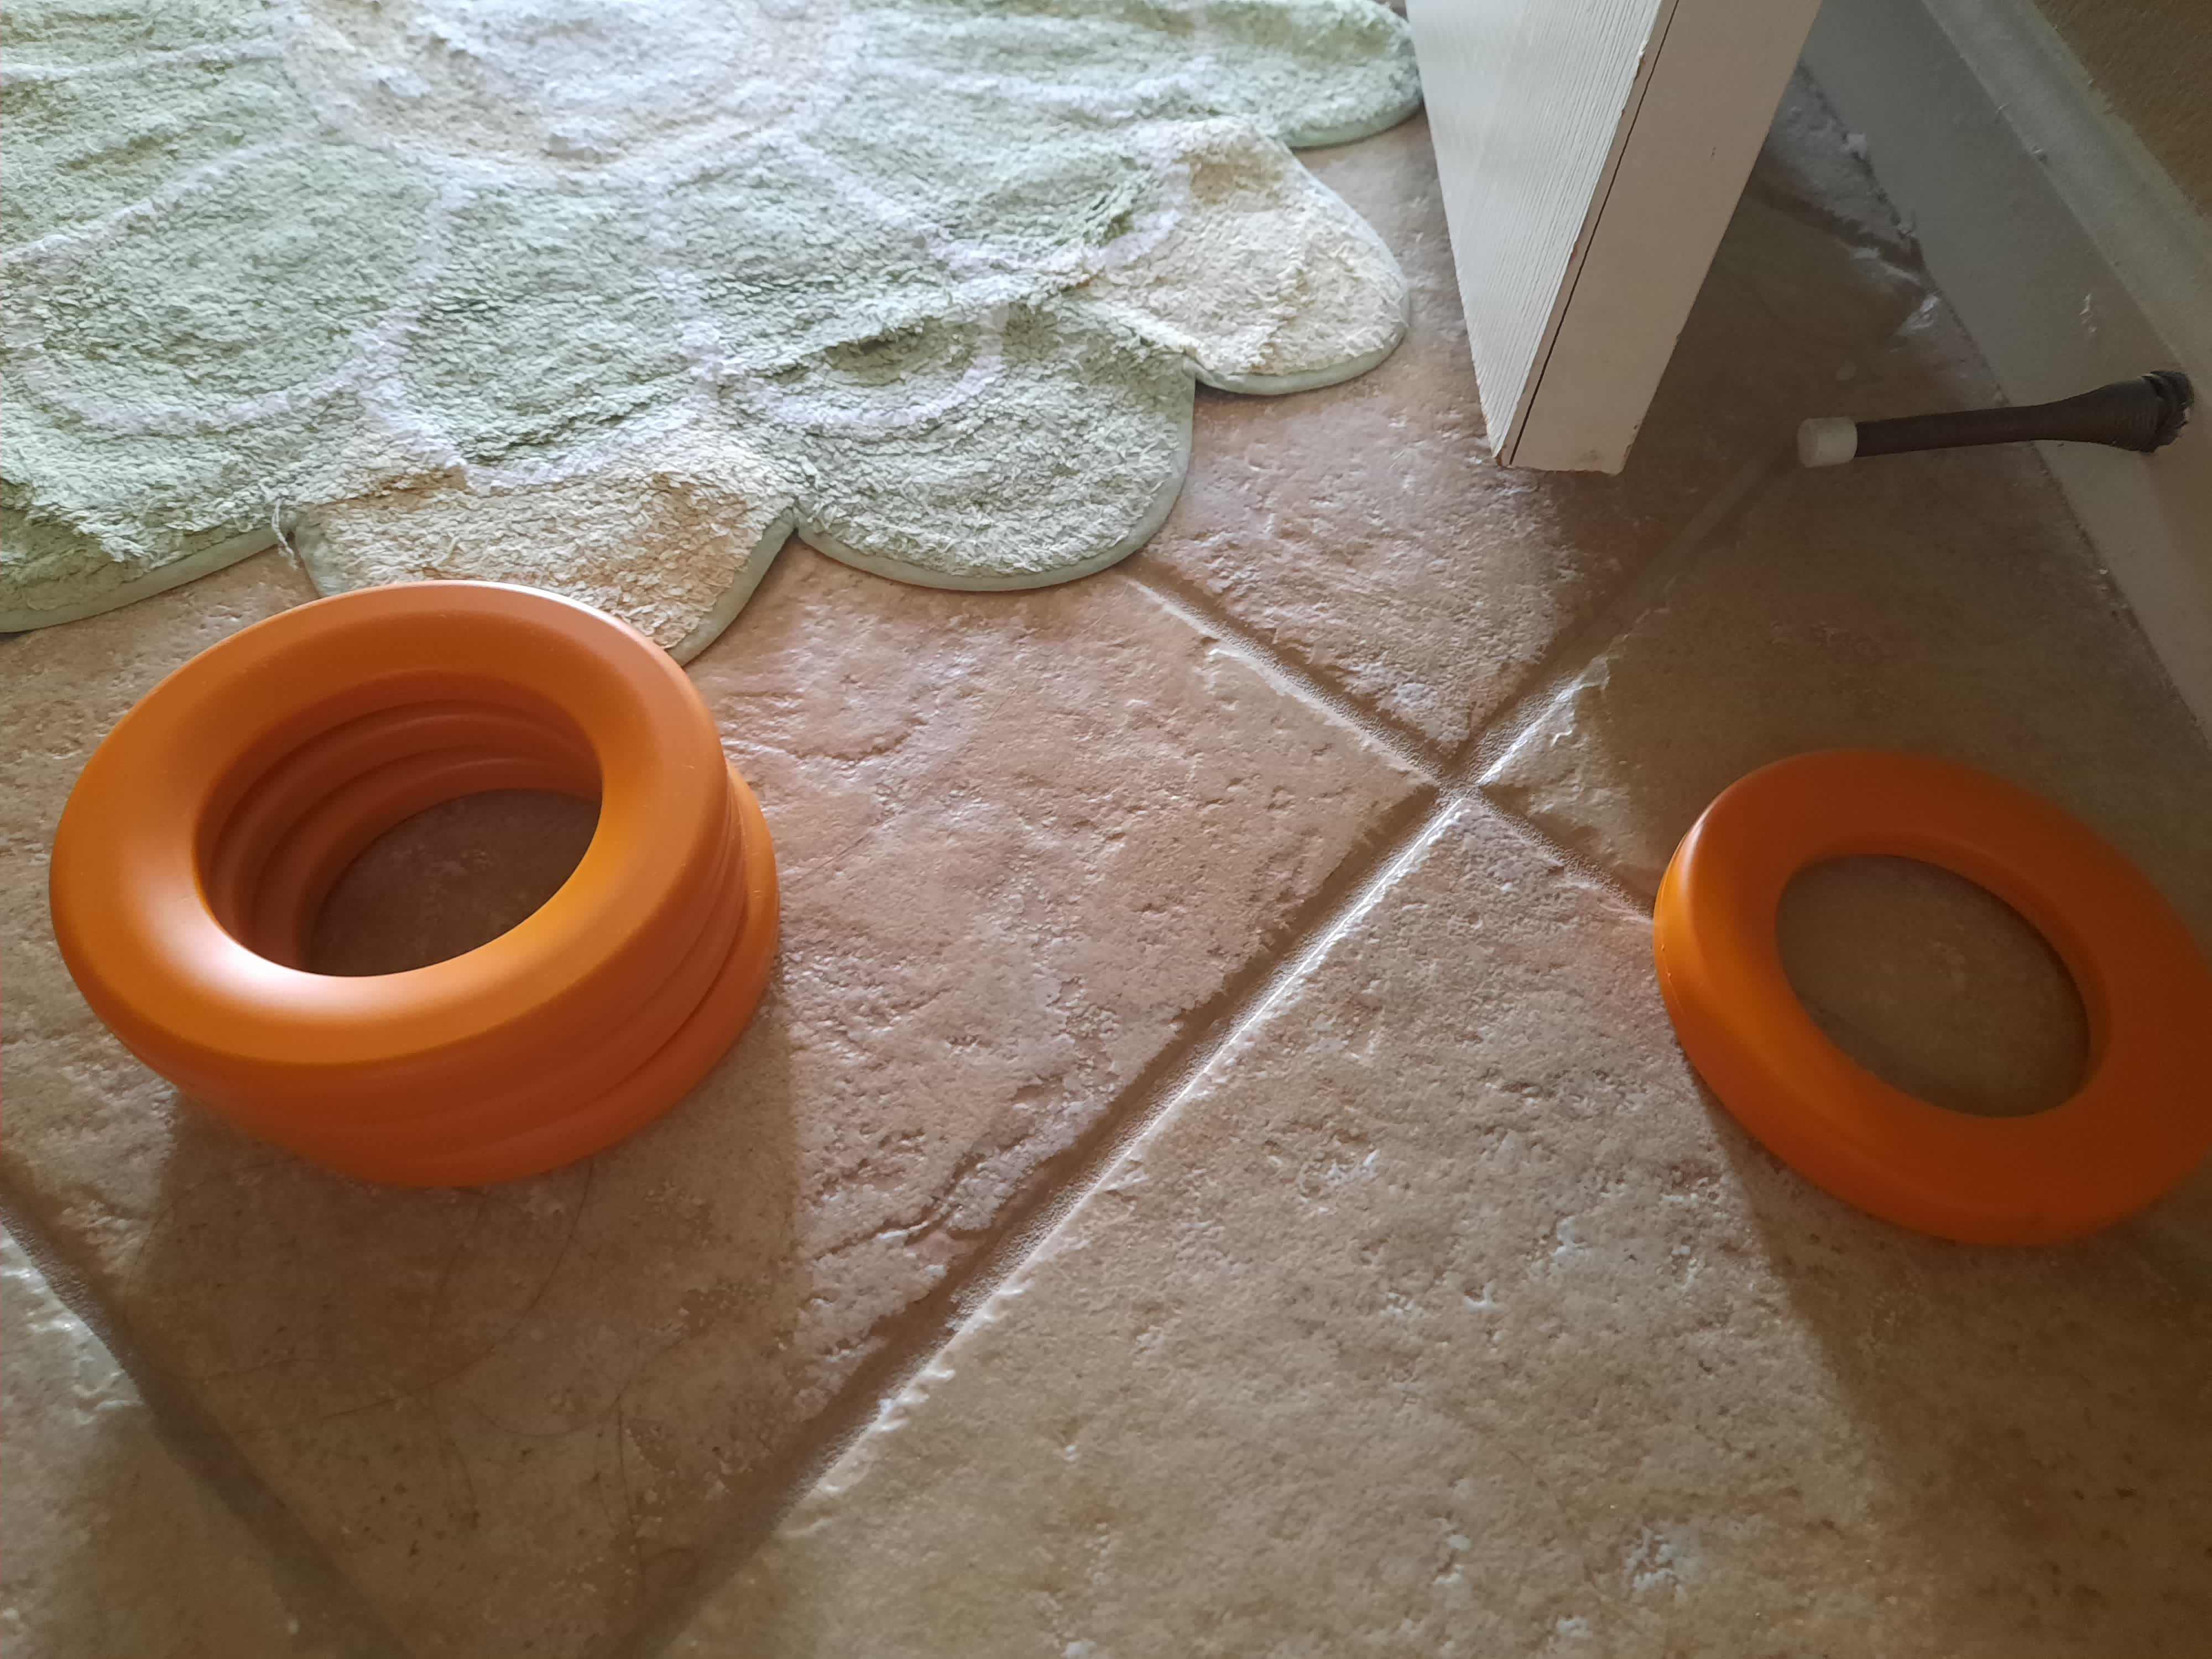FourStack: (64, 584, 780, 1150)
OneStack: (1670, 749, 2209, 1258)
